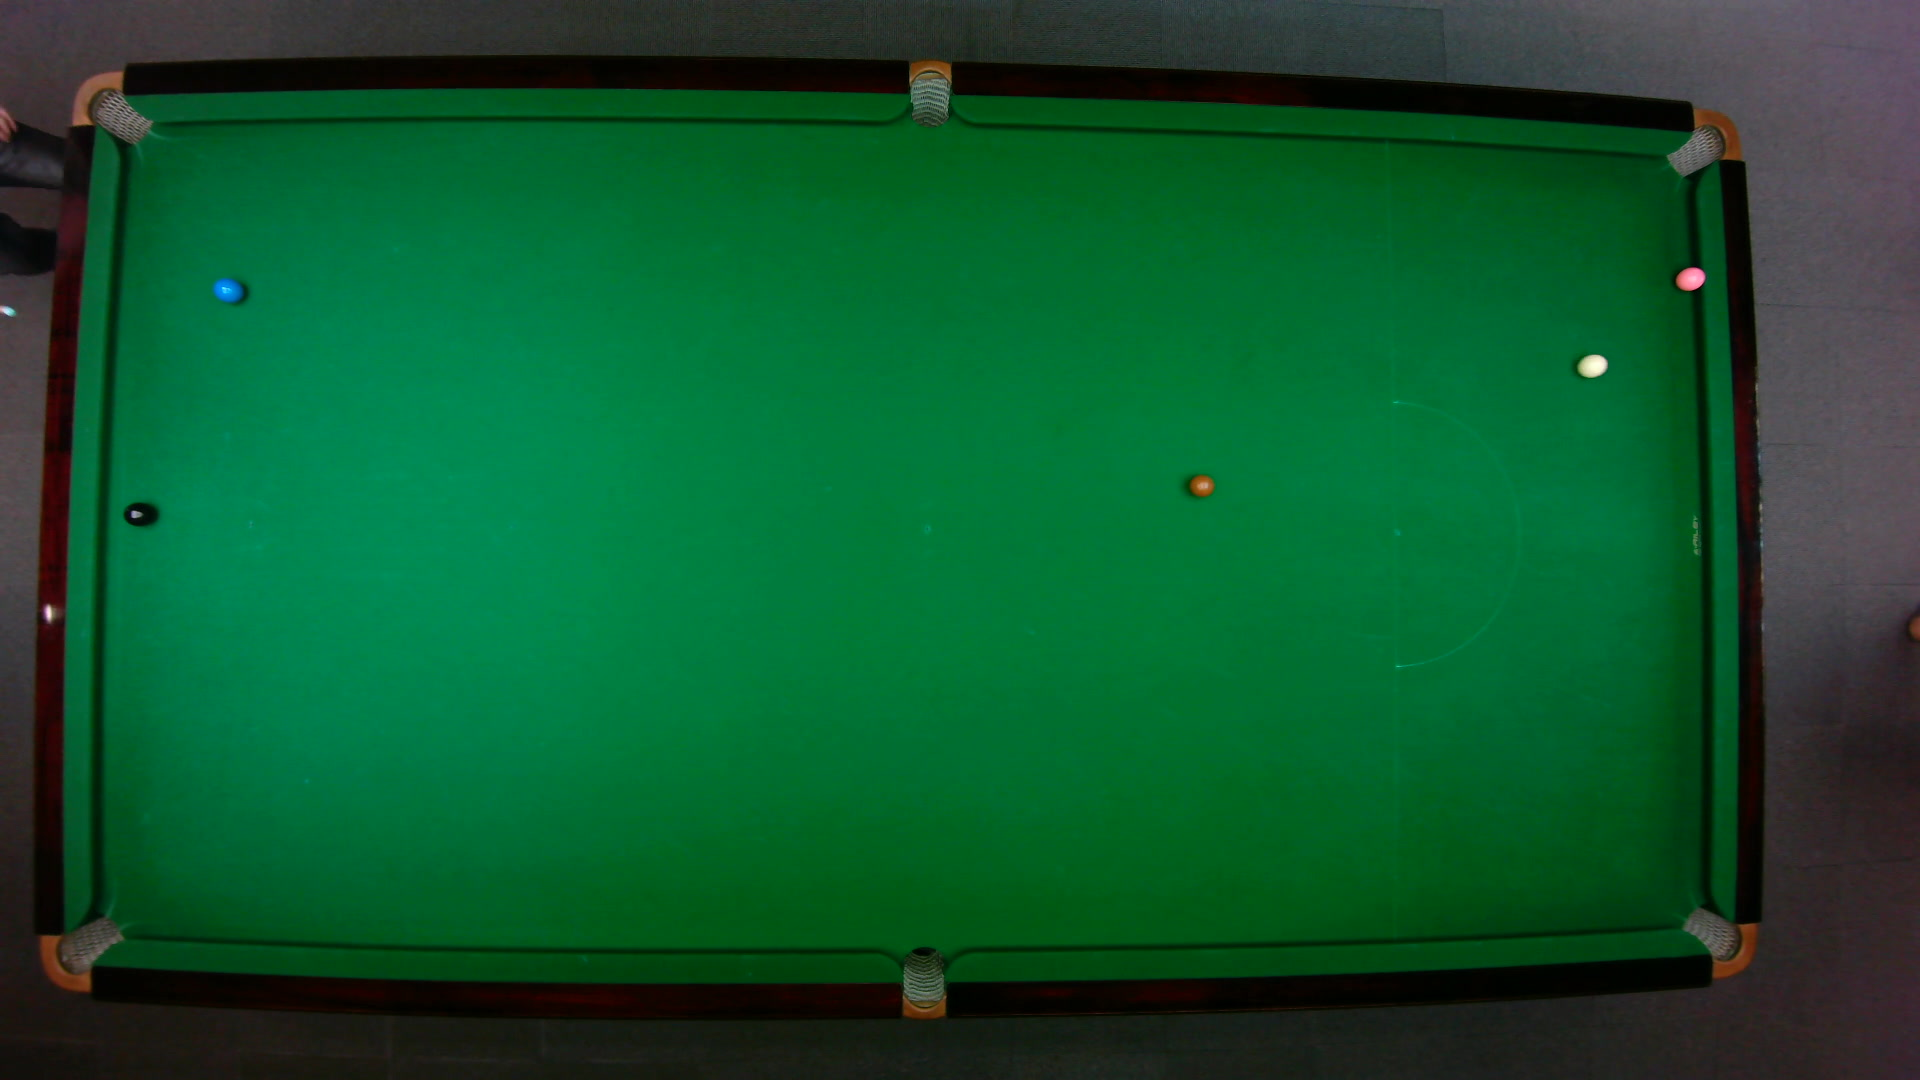bag: (37, 913, 125, 992), (69, 69, 153, 145), (1679, 905, 1756, 978), (1663, 107, 1741, 177), (901, 944, 944, 1021), (909, 57, 949, 128)
black: (121, 500, 154, 526)
blue: (210, 276, 244, 303)
brown: (1187, 472, 1215, 497)
pink: (1673, 262, 1706, 291)
white: (1575, 351, 1609, 377)
zone: (1390, 400, 1519, 667)
